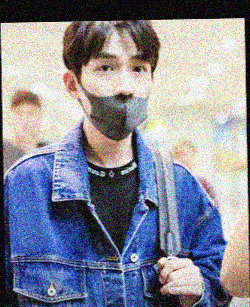mask_weared_incorrect: (77, 49, 154, 142)
without_mask: (11, 106, 40, 138)
